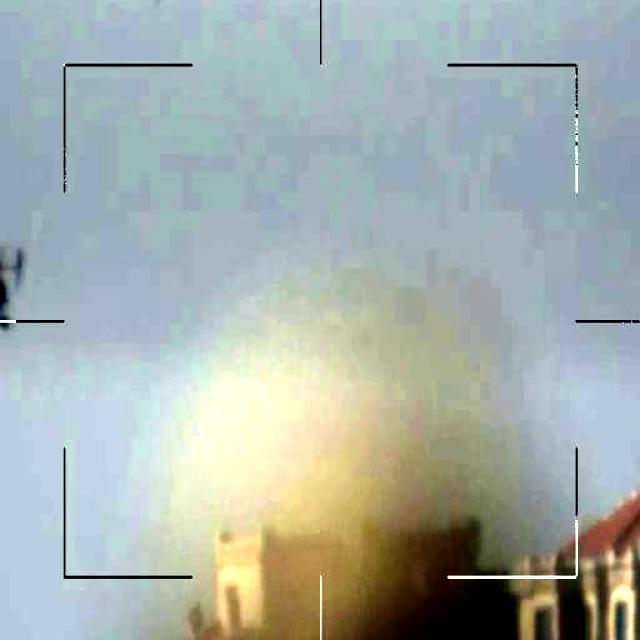bird: (0, 244, 29, 324)
